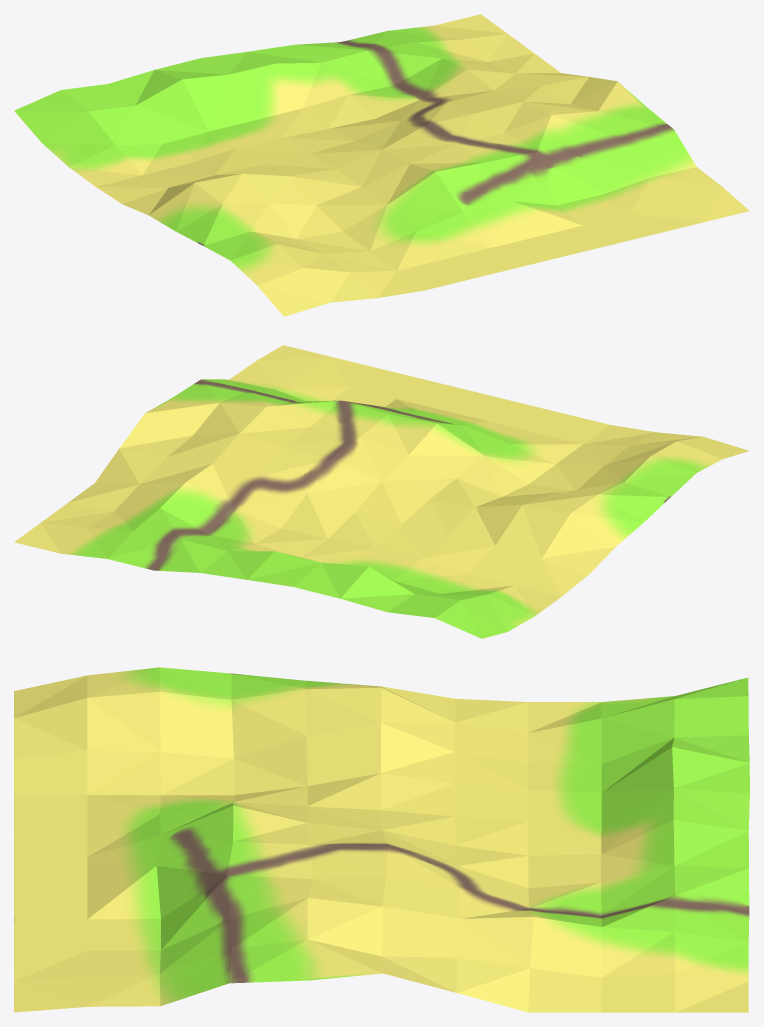
Rendered from terrain10.obj.
3 views of the same model, one above another, from view 1: azimuth 30°, elevation 25°; view 2: azimuth 150°, elevation 25°; view 3: azimuth 270°, elevation 25° (orthographic). The views are drawn at different scales.
Visible parts, largest first — view 1: Grid; view 2: Grid; view 3: Grid.
Boxes of the visible parts, box(x1,y1,x2,y2) form: Grid: box(14, 14, 749, 316); Grid: box(14, 345, 749, 638); Grid: box(14, 667, 749, 1012).
Size of the model in its own units: 2.02 by 0.1627 by 2.
1 material, 1 textured.
